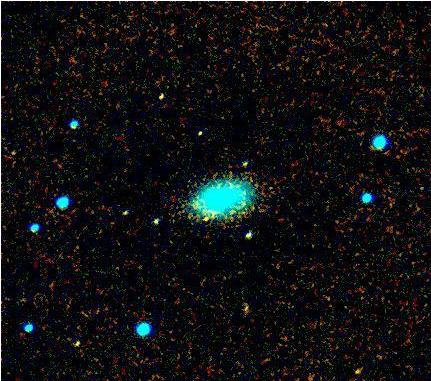star: (186, 206, 216, 236)
